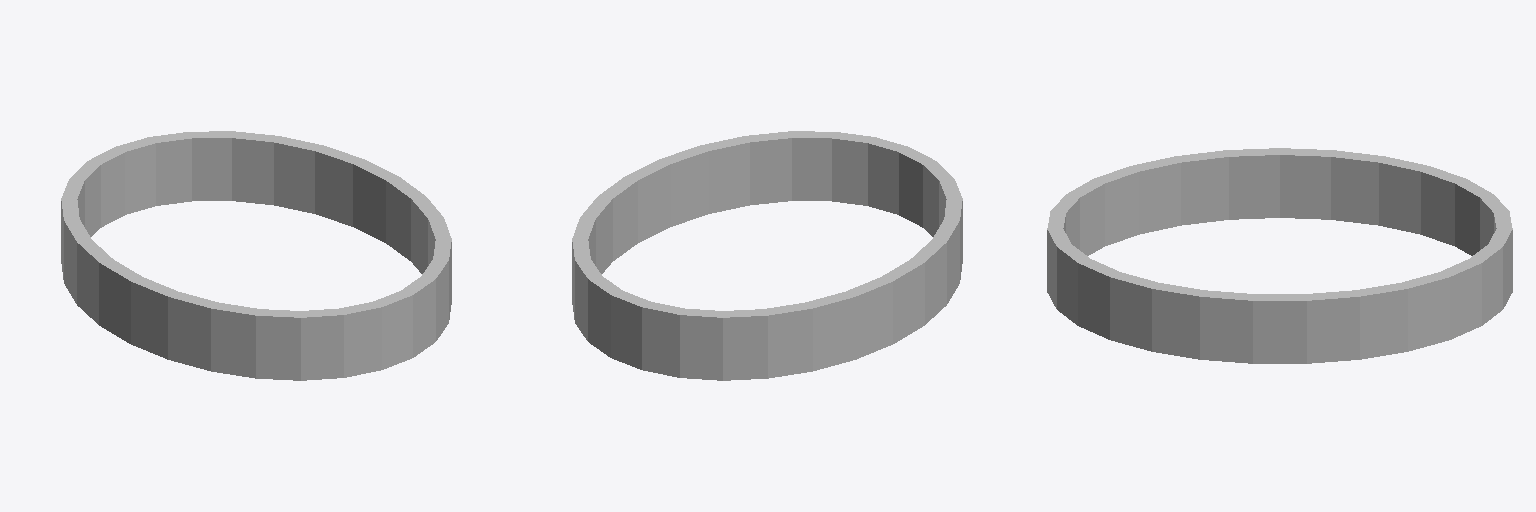
Rendered from HeadBand.obj.
3 views of the same model, side by side, from view 1: azimuth 30°, elevation 25°; view 2: azimuth 150°, elevation 25°; view 3: azimuth 270°, elevation 25° (orthographic).
Visible parts, largest first — view 1: HeadBand; view 2: HeadBand; view 3: HeadBand.
Boxes of the visible parts, x1=… form: HeadBand: x1=61, y1=131, x2=451, y2=380; HeadBand: x1=572, y1=131, x2=962, y2=380; HeadBand: x1=1047, y1=148, x2=1512, y2=363.
Size of the model in its own units: 0.224 by 0.0431 by 0.2883.